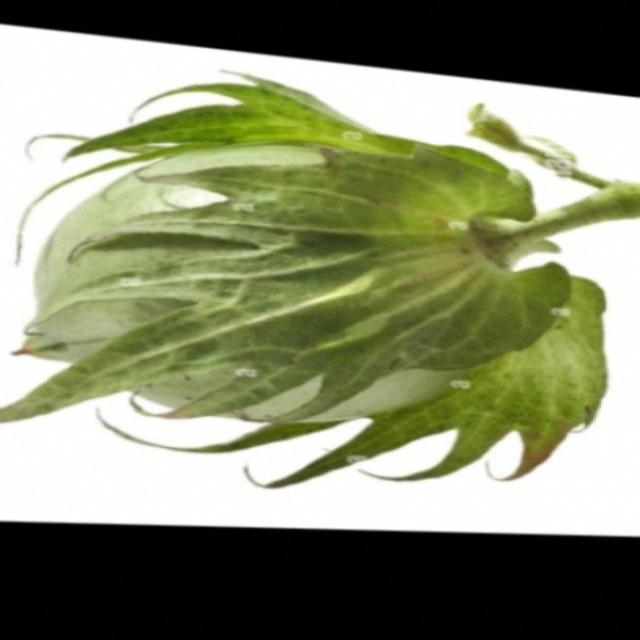Early Boll: (10, 81, 608, 488)
